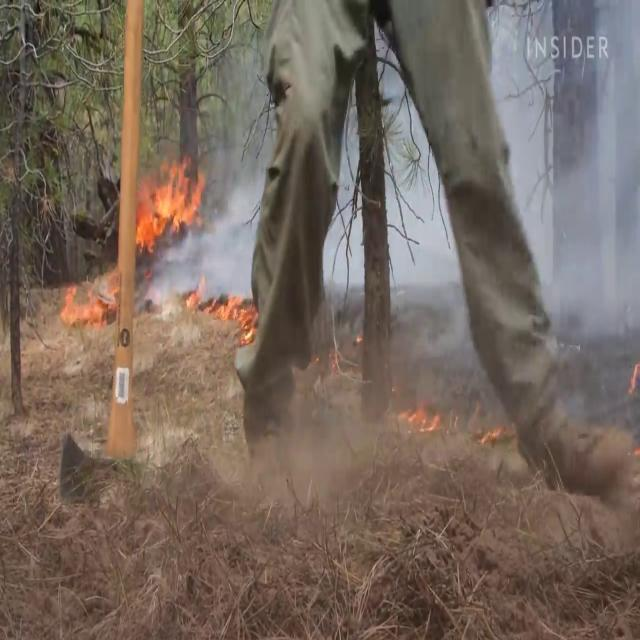Fire: (136, 147, 207, 250), (59, 263, 118, 333), (397, 391, 445, 436)
Smoke: (549, 1, 640, 354)
